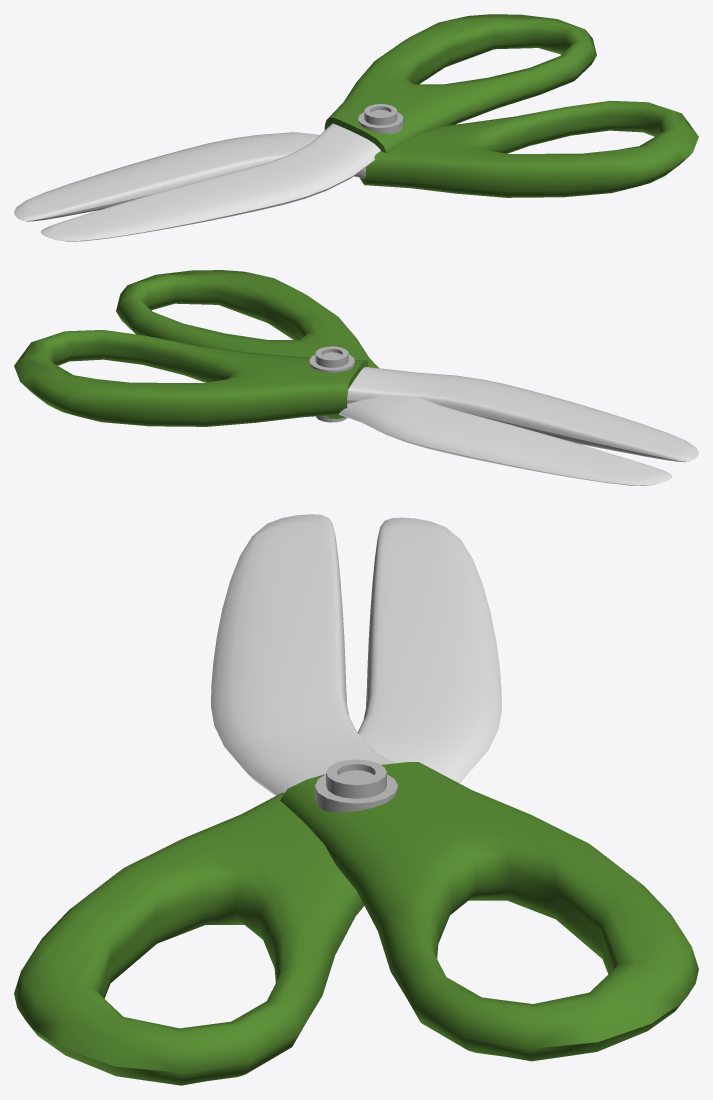
Rendered from Scissors04.fbx.
3 renders of one model, top to bottom at view 1: azimuth 30°, elevation 25°; view 2: azimuth 150°, elevation 25°; view 3: azimuth 270°, elevation 25°, orthographic. The views are drawn at different scales.
Visible parts, largest first — view 1: Scissors04; view 2: Scissors04; view 3: Scissors04.
Boxes of the visible parts, box(x1,y1,x2,y2) form: Scissors04: box(14, 14, 698, 241); Scissors04: box(14, 270, 698, 485); Scissors04: box(14, 514, 698, 1085).
Size of the model in its own units: 0.1779 by 0.0951 by 0.0173.
